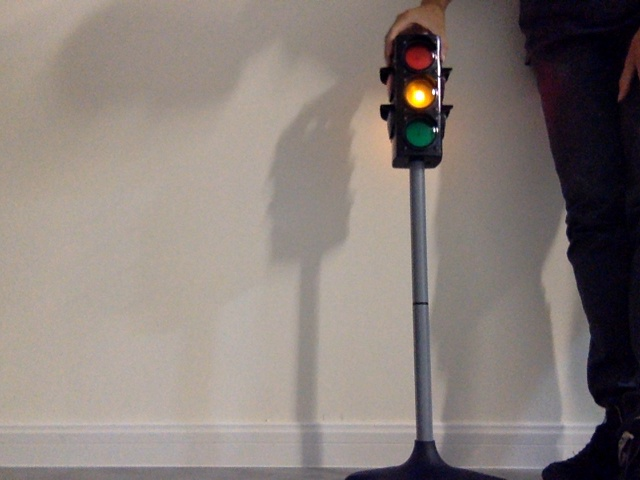yellow: (398, 43, 436, 149)
